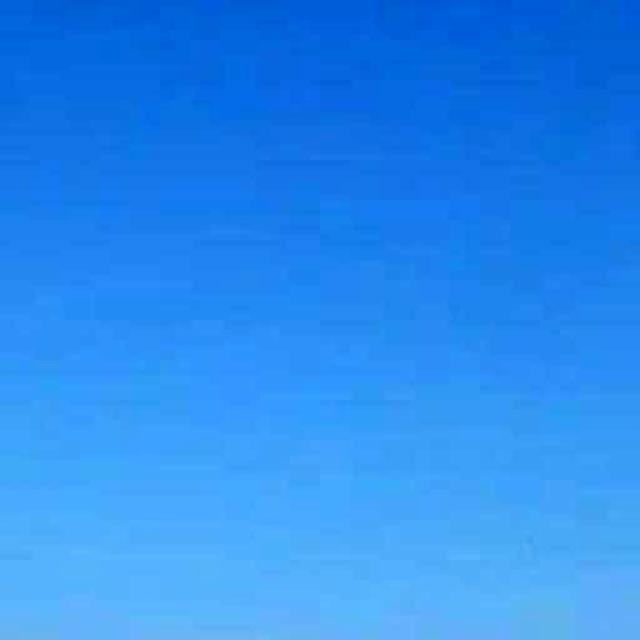drone: (496, 502, 558, 580)
